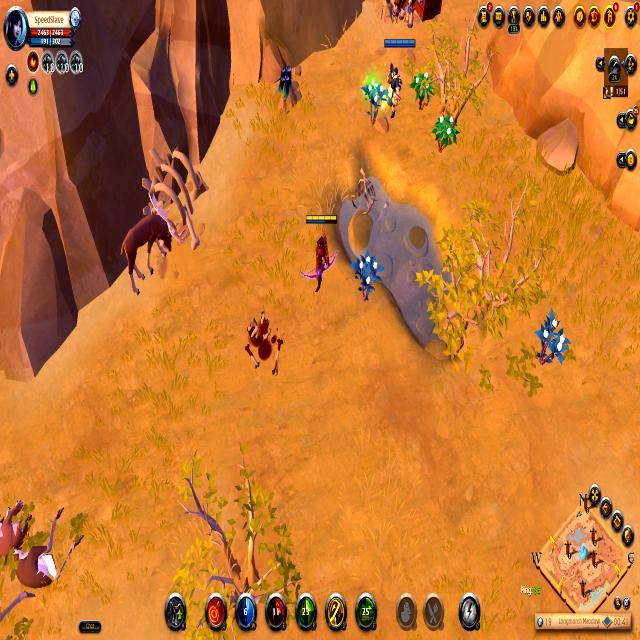hide: (533, 299, 572, 380), (348, 244, 386, 319), (361, 70, 391, 138), (431, 107, 461, 166), (409, 64, 437, 119)
mob: (9, 509, 82, 609), (0, 492, 35, 565)
ore: (118, 180, 182, 301)
red: (299, 200, 344, 310), (381, 33, 424, 129)
